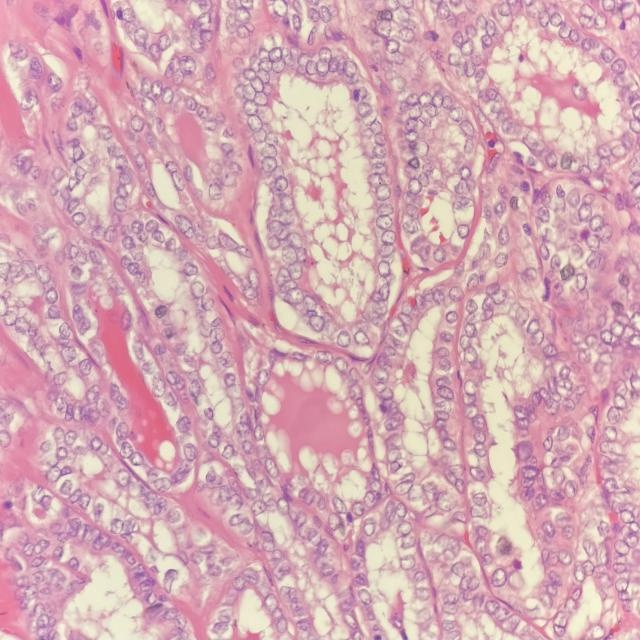TC: (306, 304, 335, 338), (506, 299, 532, 336), (445, 273, 469, 313), (167, 159, 193, 194), (350, 323, 371, 362), (490, 217, 512, 254), (279, 236, 304, 268), (205, 175, 227, 211), (370, 255, 398, 283), (368, 178, 396, 205), (391, 474, 418, 502), (458, 341, 483, 371), (205, 319, 230, 349), (311, 342, 336, 372), (405, 165, 427, 199), (253, 153, 280, 180), (181, 438, 206, 467), (108, 186, 130, 218), (370, 361, 394, 389), (56, 237, 78, 267), (39, 283, 61, 313), (373, 213, 402, 235), (172, 215, 196, 241), (531, 240, 554, 267), (328, 492, 351, 519), (434, 376, 455, 404), (262, 451, 280, 483), (461, 400, 483, 425), (172, 414, 193, 440), (188, 276, 208, 302), (249, 423, 268, 448), (222, 366, 238, 391)
